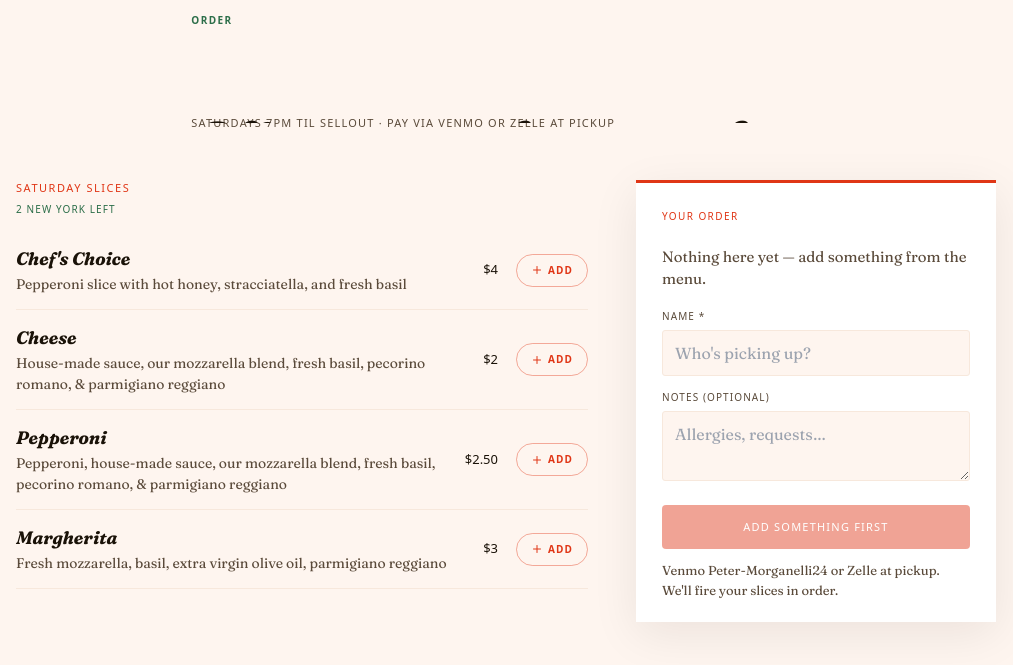
Test: OrderPage — dough stock › stops the stepper at what is left rather than at maxQty
The width and height of the screenshot is (1013, 665).
expect the text "Chef's Choice" is shown: met, box [16, 247, 130, 270]
Click the button "Add" next to "$4".
click(552, 270)  # box [516, 254, 588, 286]
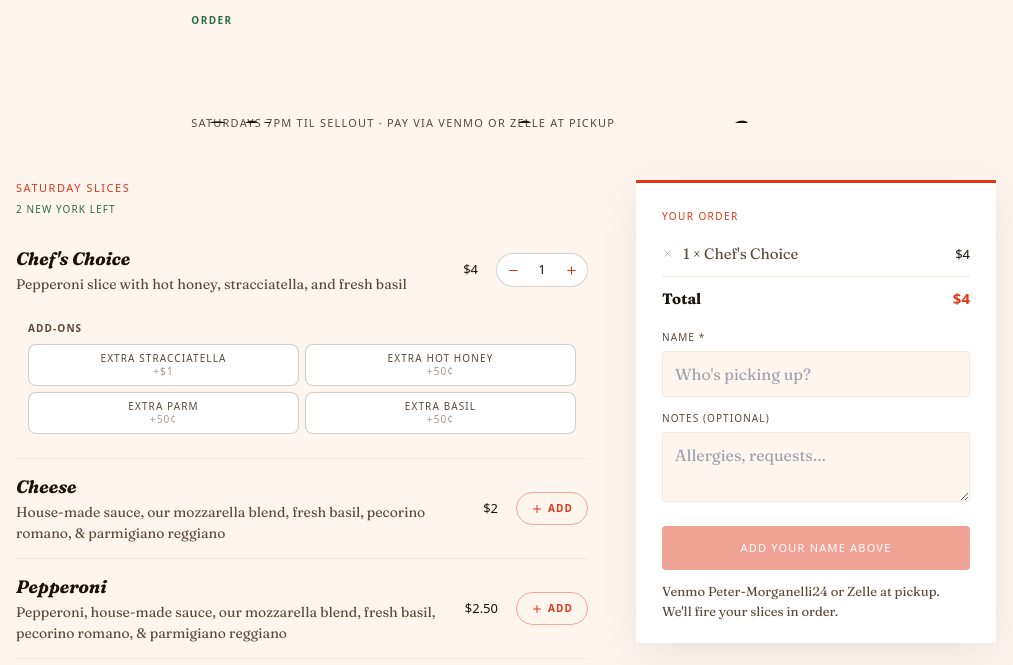
Click the button named "add one".
click(571, 270)  # box [555, 254, 587, 286]
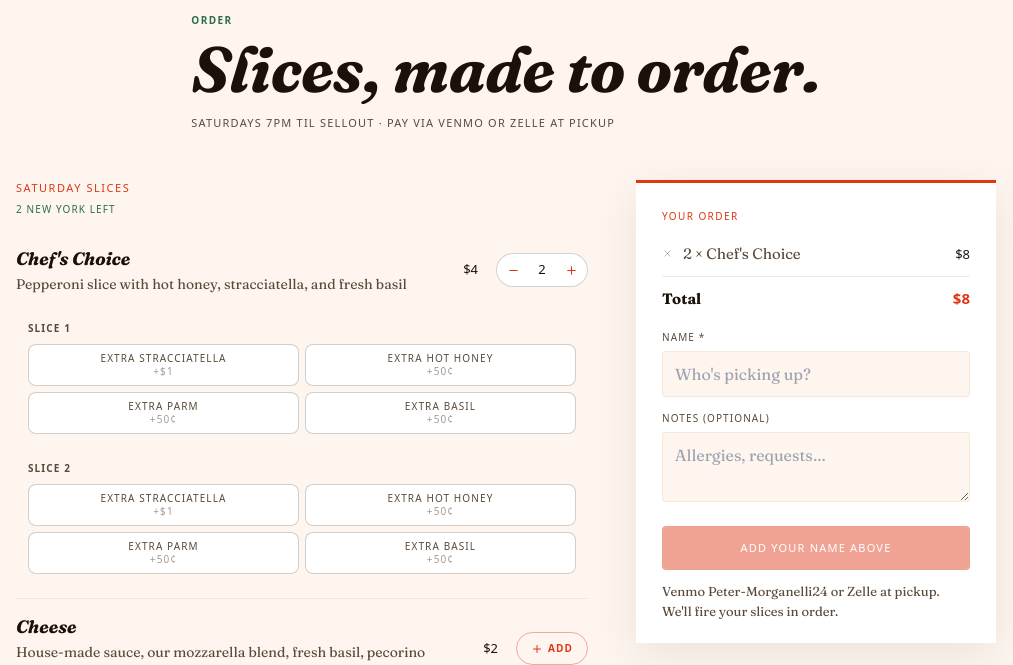
expect the text "2" is shown: met, box [538, 260, 546, 278]
